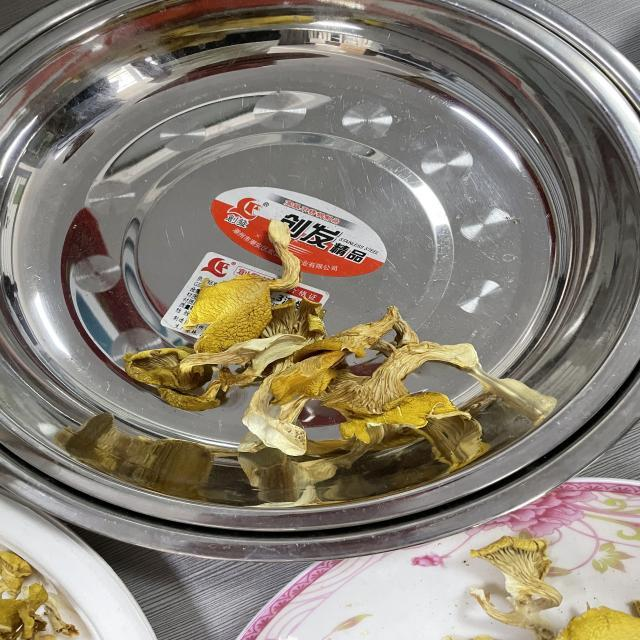Pleurotus citrinopileatus: (295, 123, 608, 386)
